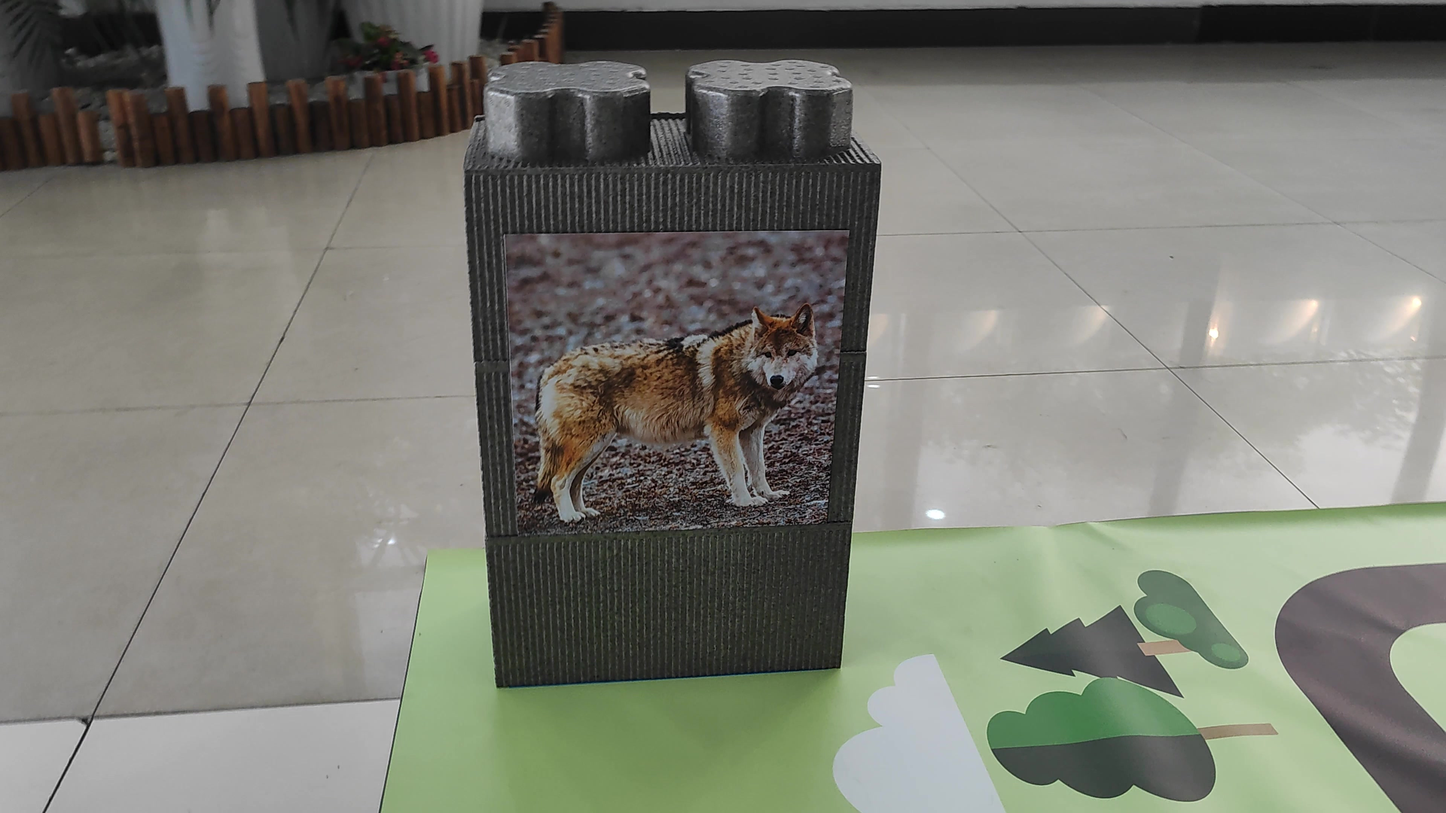wolf: (520, 271, 826, 525)
